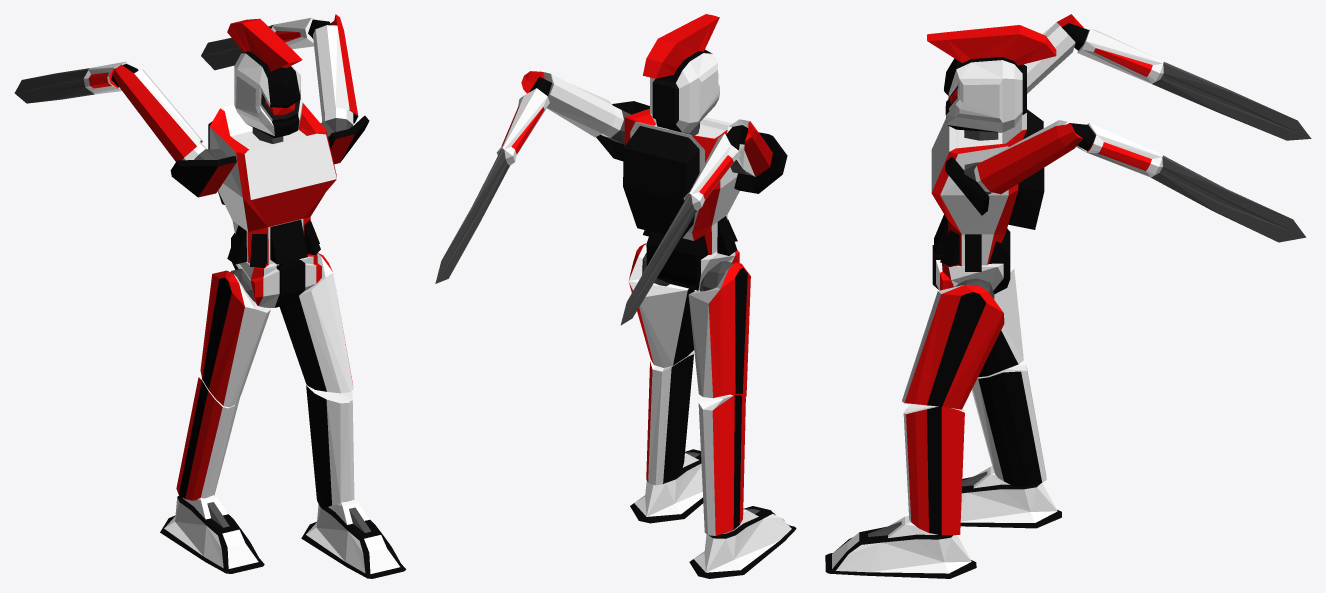
Rendered from robots_000003.obj.
The picture shows the model from 3 angles, left to right: view 1: azimuth 30°, elevation 25°; view 2: azimuth 150°, elevation 25°; view 3: azimuth 270°, elevation 25°; orthographic projection. The views are drawn at different scales.
Visible parts, largest first — view 1: Chest_plate_Cube.004, Head_gladiator_Cube.024, R_Forearm.001_Cube.028, R_Thigh_Cube.005, R_Thigh.002_Cube.027, R_Forearm.002_Cube.033, R_Shin.002_Cube.029, R_Foot_Cube, R_Foot.002_Cube.035, R_Shin_Cube.007, Pelvis_Cube.006, R_Arm.002_Cube.032 (+1 smaller); view 2: Chest_plate_Cube.004, R_Forearm.002_Cube.033, Head_gladiator_Cube.024, R_Thigh_Cube.005, R_Shin_Cube.007, R_Forearm.001_Cube.028, R_Shin.002_Cube.029, R_Foot_Cube, R_Thigh.002_Cube.027, R_Foot.002_Cube.035, Pelvis_Cube.006, R_Arm.002_Cube.032 (+2 smaller); view 3: R_Forearm.002_Cube.033, Chest_plate_Cube.004, Head_gladiator_Cube.024, R_Thigh.002_Cube.027, R_Forearm.001_Cube.028, R_Shin.002_Cube.029, R_Shin_Cube.007, R_Foot.002_Cube.035, R_Foot_Cube, R_Thigh_Cube.005, Pelvis_Cube.006, R_Arm.003_Cube.034.
Part boxes in pixels (box(x1,y1,x2,y2)): Chest_plate_Cube.004: box(208, 103, 336, 267); Head_gladiator_Cube.024: box(227, 18, 302, 138); R_Forearm.001_Cube.028: box(14, 61, 202, 161); R_Thigh_Cube.005: box(200, 270, 270, 407); R_Thigh.002_Cube.027: box(279, 253, 353, 393); R_Forearm.002_Cube.033: box(201, 14, 358, 123); R_Shin.002_Cube.029: box(306, 384, 354, 507); R_Foot_Cube: box(160, 495, 264, 573); R_Foot.002_Cube.035: box(301, 499, 406, 578); R_Shin_Cube.007: box(176, 377, 239, 500); Pelvis_Cube.006: box(231, 233, 321, 307); R_Arm.002_Cube.032: box(170, 142, 236, 197); Chest_plate_Cube.004: box(623, 108, 739, 255); R_Forearm.002_Cube.033: box(435, 71, 615, 283); Head_gladiator_Cube.024: box(643, 14, 719, 133); R_Thigh_Cube.005: box(688, 262, 750, 398); R_Shin_Cube.007: box(698, 394, 745, 535); R_Forearm.001_Cube.028: box(620, 119, 772, 325); R_Shin.002_Cube.029: box(646, 351, 693, 485); R_Foot_Cube: box(689, 506, 796, 578); R_Thigh.002_Cube.027: box(628, 243, 694, 367); R_Foot.002_Cube.035: box(630, 449, 703, 523); Pelvis_Cube.006: box(645, 231, 739, 290); R_Arm.002_Cube.032: box(730, 132, 787, 193); R_Forearm.002_Cube.033: box(976, 120, 1306, 242); Chest_plate_Cube.004: box(931, 109, 1044, 271); Head_gladiator_Cube.024: box(927, 25, 1056, 132); R_Thigh.002_Cube.027: box(902, 284, 1004, 409); R_Forearm.001_Cube.028: box(1024, 14, 1311, 140); R_Shin.002_Cube.029: box(903, 404, 964, 535); R_Shin_Cube.007: box(971, 361, 1046, 486); R_Foot.002_Cube.035: box(825, 516, 976, 578); R_Foot_Cube: box(960, 466, 1061, 528); R_Thigh_Cube.005: box(978, 261, 1023, 377); Pelvis_Cube.006: box(932, 228, 1010, 294); R_Arm.003_Cube.034: box(945, 157, 992, 215).
Size of the model in its own units: 1.51 by 3.17 by 2.72.
